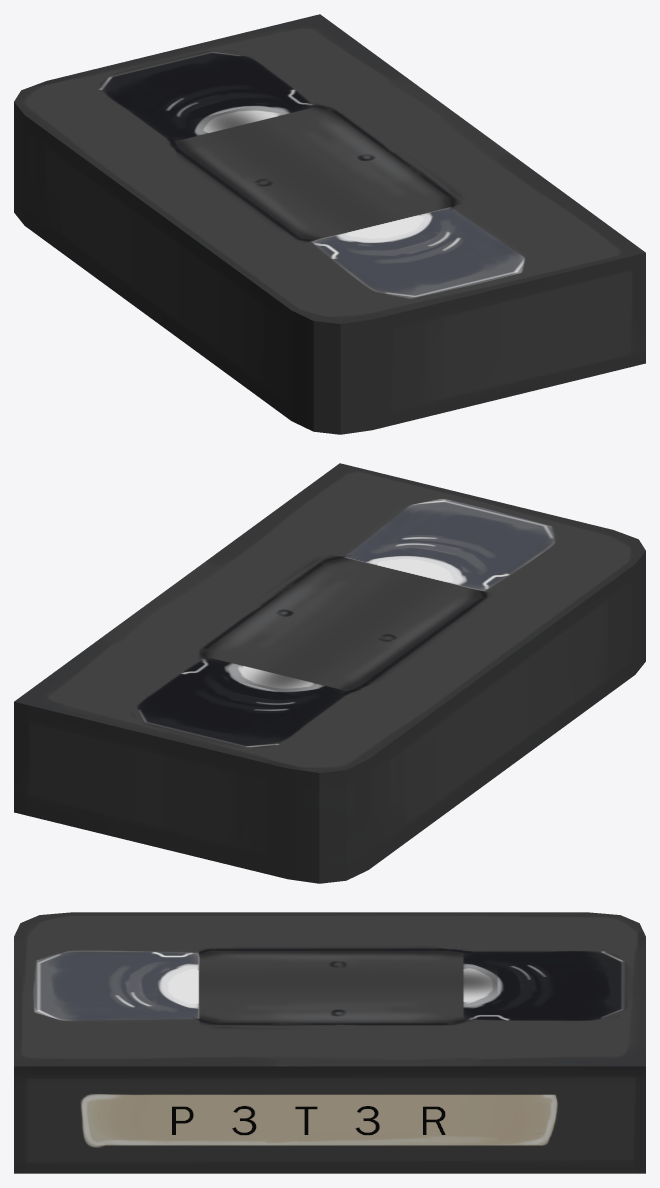
Rendered from VHSTape_p3t3r.FBX.
3 renders of one model, top to bottom at view 1: azimuth 30°, elevation 25°; view 2: azimuth 150°, elevation 25°; view 3: azimuth 270°, elevation 25°, orthographic. The views are drawn at different scales.
Parts seen in each view (by area): view 1: tape005; view 2: tape005; view 3: tape005.
Boxes of the visible parts, x1,y1,x2,y2 form: tape005: [14, 14, 645, 434]; tape005: [14, 463, 645, 883]; tape005: [14, 912, 645, 1173].
Bounding box in the file's own units: 11.66 × 3.8 × 20.25.
Materials: 1 (1 with a texture image).
